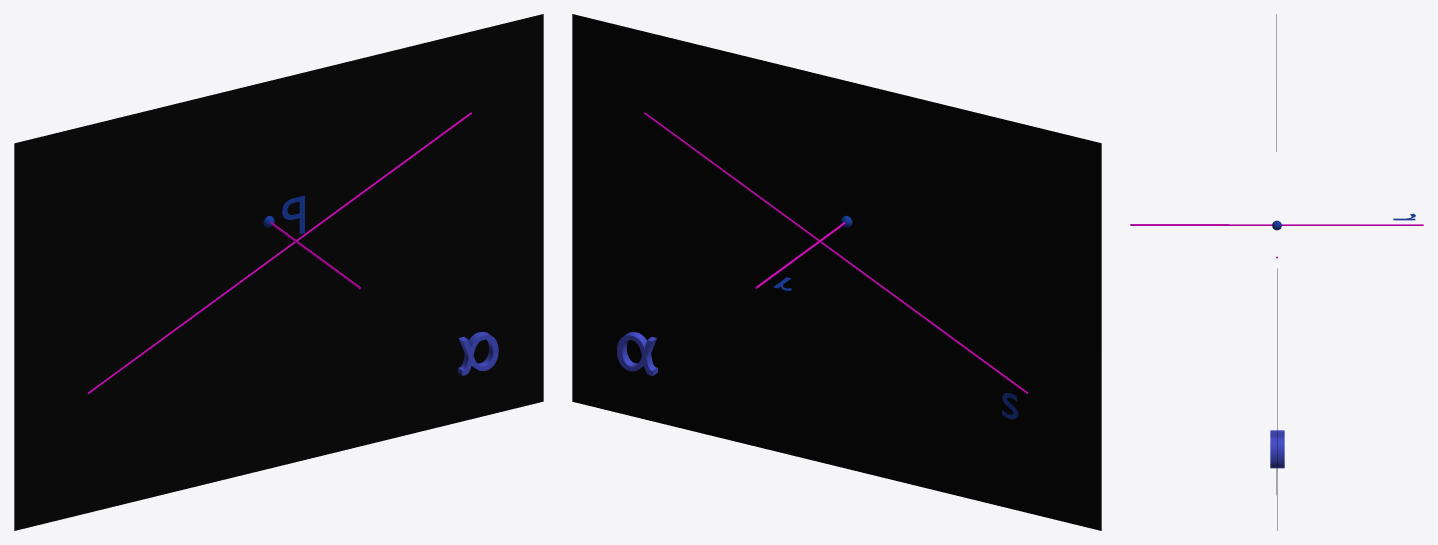
Rendered from ob1.2_reversas.glb.
3 renders of one model, left to right at view 1: azimuth 30°, elevation 25°; view 2: azimuth 150°, elevation 25°; view 3: azimuth 270°, elevation 25°, orthographic. The views are drawn at different scales.
Parts seen in each view (by area): view 1: node_id11, node_id14, mesh_id108; view 2: node_id11, node_id14, mesh_id108; view 3: mesh_id108, node_id26, node_id11.
Part boxes in pixels (x1,y1,x2,y2): node_id11: [14, 14, 543, 530]; node_id14: [87, 112, 472, 394]; mesh_id108: [458, 331, 498, 375]; node_id11: [572, 14, 1101, 530]; node_id14: [644, 112, 1028, 394]; mesh_id108: [617, 332, 657, 375]; mesh_id108: [1270, 430, 1284, 468]; node_id26: [1130, 224, 1423, 225]; node_id11: [1276, 14, 1277, 530].
Size of the model in its own units: 0.512 by 0.3585 by 0.3071.
9 materials, 9 textured.
